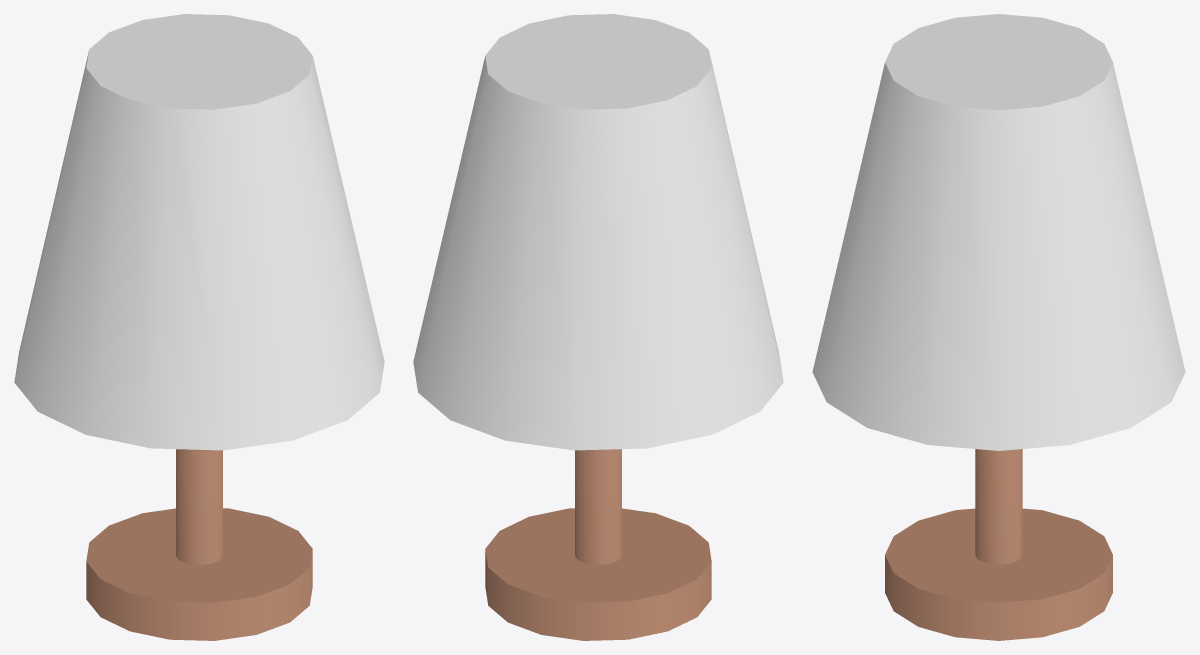
File: lump.fbx
The picture shows the model from 3 angles, left to right: view 1: azimuth 30°, elevation 25°; view 2: azimuth 150°, elevation 25°; view 3: azimuth 270°, elevation 25°; orthographic projection.
Visible parts, largest first — view 1: StandLight; view 2: StandLight; view 3: StandLight.
Part boxes in pixels (<box>): StandLight: <box>14,14,384,640</box>; StandLight: <box>413,14,783,640</box>; StandLight: <box>812,14,1185,640</box>.
Bounding box in the file's own units: 32.72 × 51.35 × 32.72.
